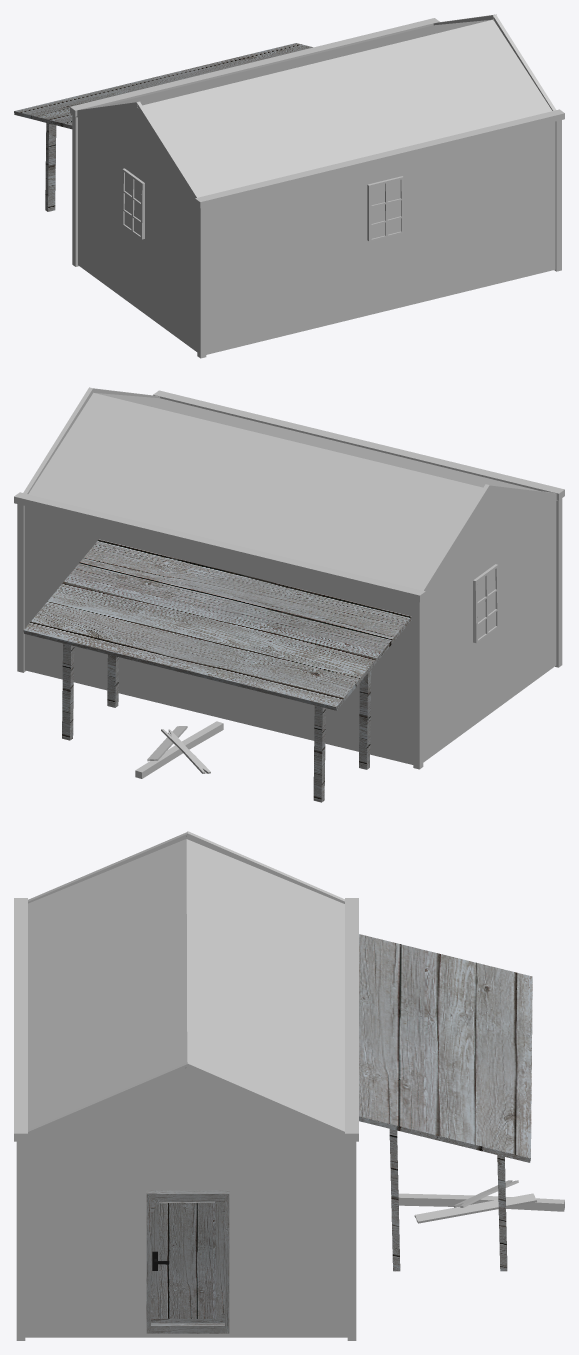
Rendered from house2.obj.
3 renders of one model, top to bottom at view 1: azimuth 30°, elevation 25°; view 2: azimuth 150°, elevation 25°; view 3: azimuth 270°, elevation 25°, orthographic. The views are drawn at different scales.
Parts seen in each view (by area): view 1: west_town_finish; view 2: west_town_finish; view 3: west_town_finish.
Part boxes in pixels (x1,y1,x2,y2): west_town_finish: (14, 14, 564, 358); west_town_finish: (14, 387, 564, 802); west_town_finish: (14, 831, 564, 1340).
Bounding box in the file's own units: 0.5136 × 0.2799 × 0.5053.
